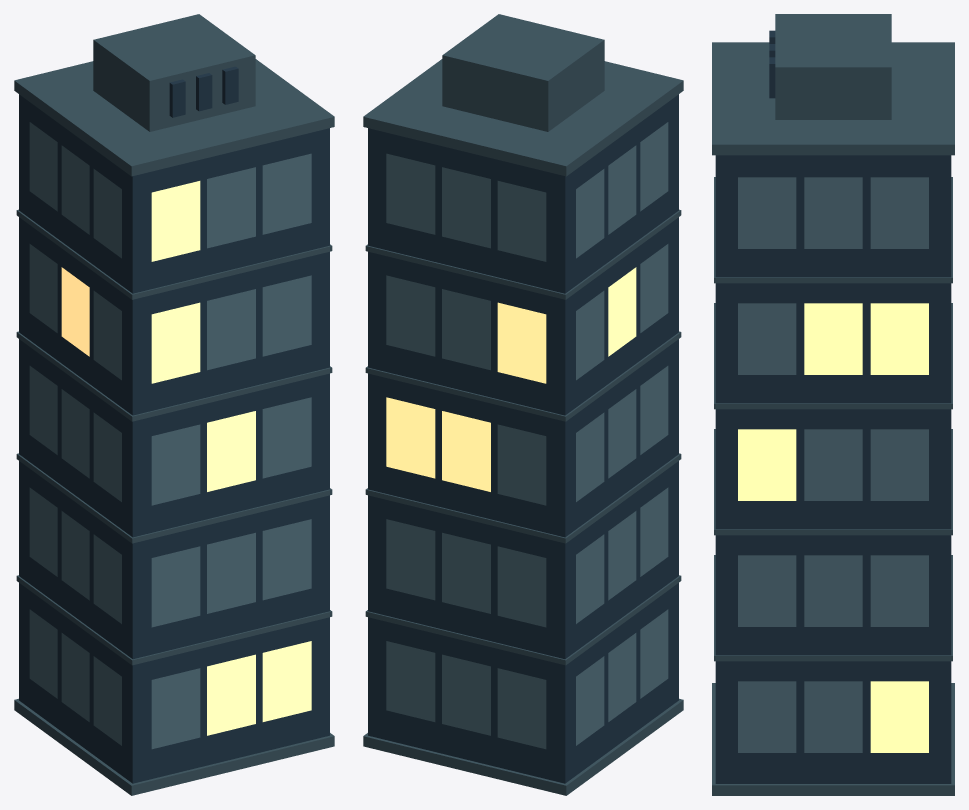
File: dusk-office-rooftop.glb
The picture shows the model from 3 angles, left to right: view 1: azimuth 30°, elevation 25°; view 2: azimuth 150°, elevation 25°; view 3: azimuth 270°, elevation 25°; orthographic projection. The views are drawn at different scales.
Visible parts, largest first — view 1: dusk_office_rooftop; view 2: dusk_office_rooftop; view 3: dusk_office_rooftop.
Boxes of the visible parts, x1,y1,x2,y2 form: dusk_office_rooftop: (14,14,334,795); dusk_office_rooftop: (363,14,683,795); dusk_office_rooftop: (712,14,954,795).
Bounding box in the file's own units: 5 × 16 × 5.
